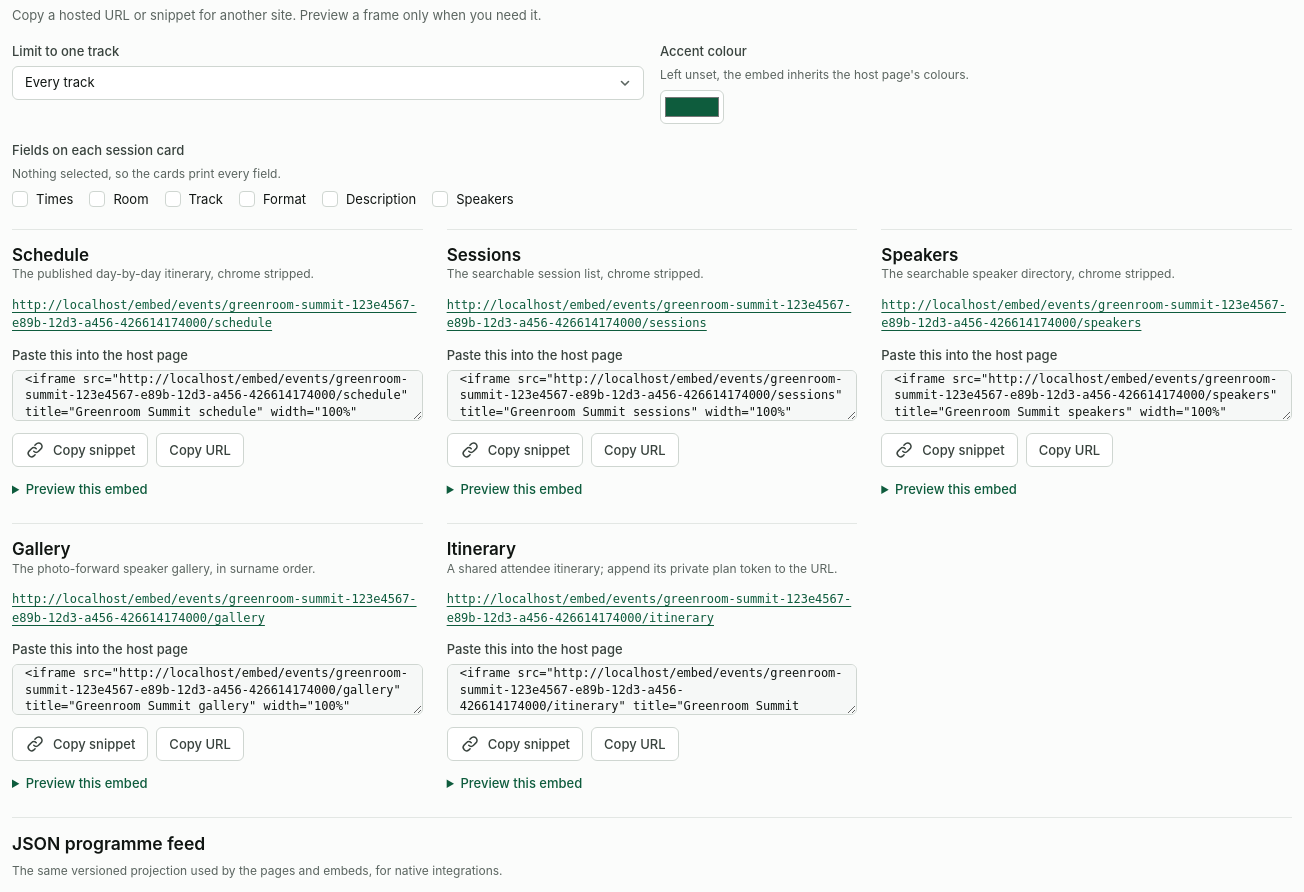
Test case: PublishingWorkspace › keeps a refused copy beside the button and hands over the selected snippet
(page scrolled)
Click the button with aria-label "Copy snippet for the Schedule embed": (80, 450) [12,433,148,467]
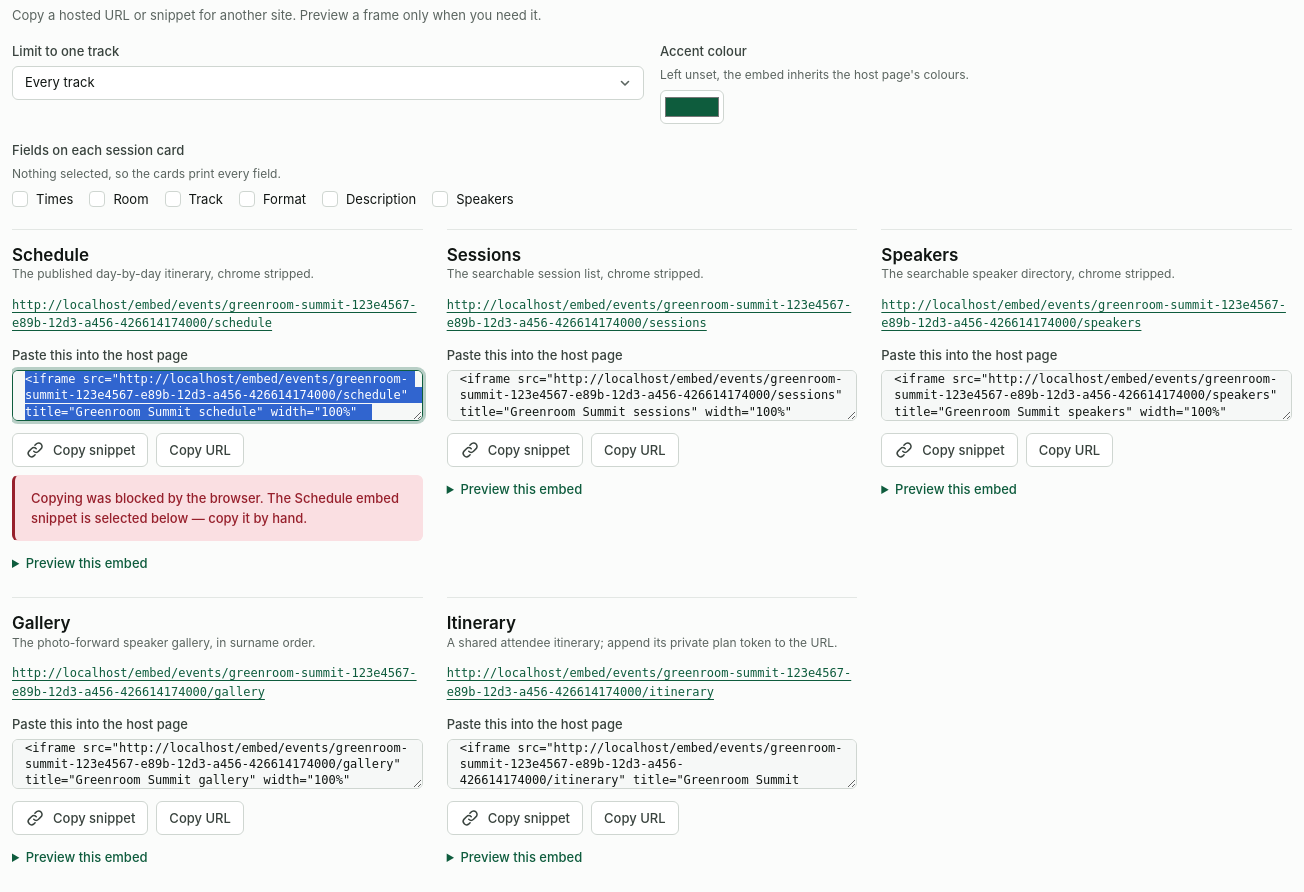
Expected: the text "blocked" is not shown
Expected: the message shows "Copying was blocked by the browser.", [31,490,399,526]
